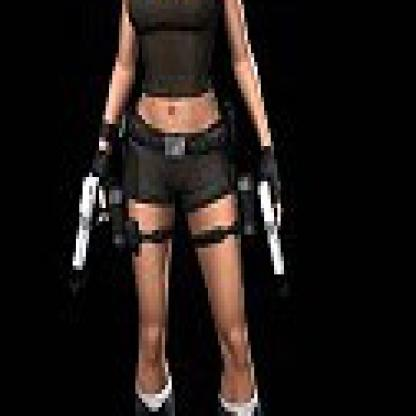gun: (66, 169, 112, 274), (254, 168, 294, 283)
